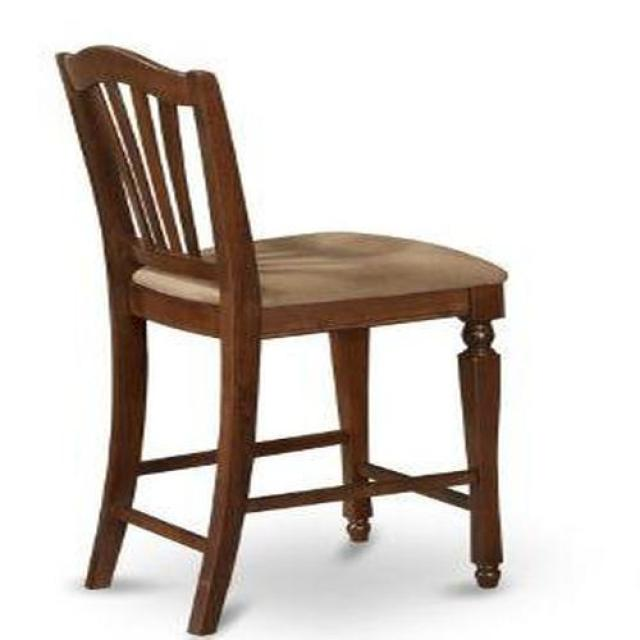chair: (60, 50, 508, 634)
